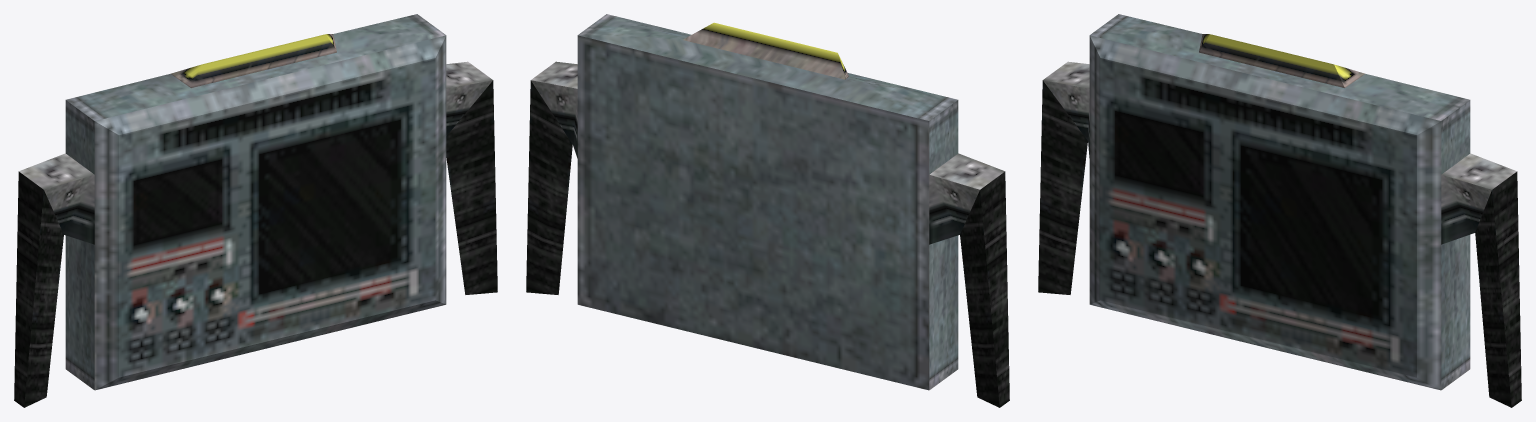
Rendered from eqp_survey_gas_l1.fbx.
The picture shows the model from 3 angles, left to right: view 1: azimuth 30°, elevation 25°; view 2: azimuth 150°, elevation 25°; view 3: azimuth 330°, elevation 25°; orthographic projection.
Parts seen in each view (by area): view 1: mesh_node; view 2: mesh_node; view 3: mesh_node.
Boxes of the visible parts, x1,y1,x2,y2 form: mesh_node: (14, 14, 497, 407); mesh_node: (526, 14, 1009, 407); mesh_node: (1038, 14, 1521, 407).
Bounding box in the file's own units: 0.4568 × 0.2792 × 0.0598.
